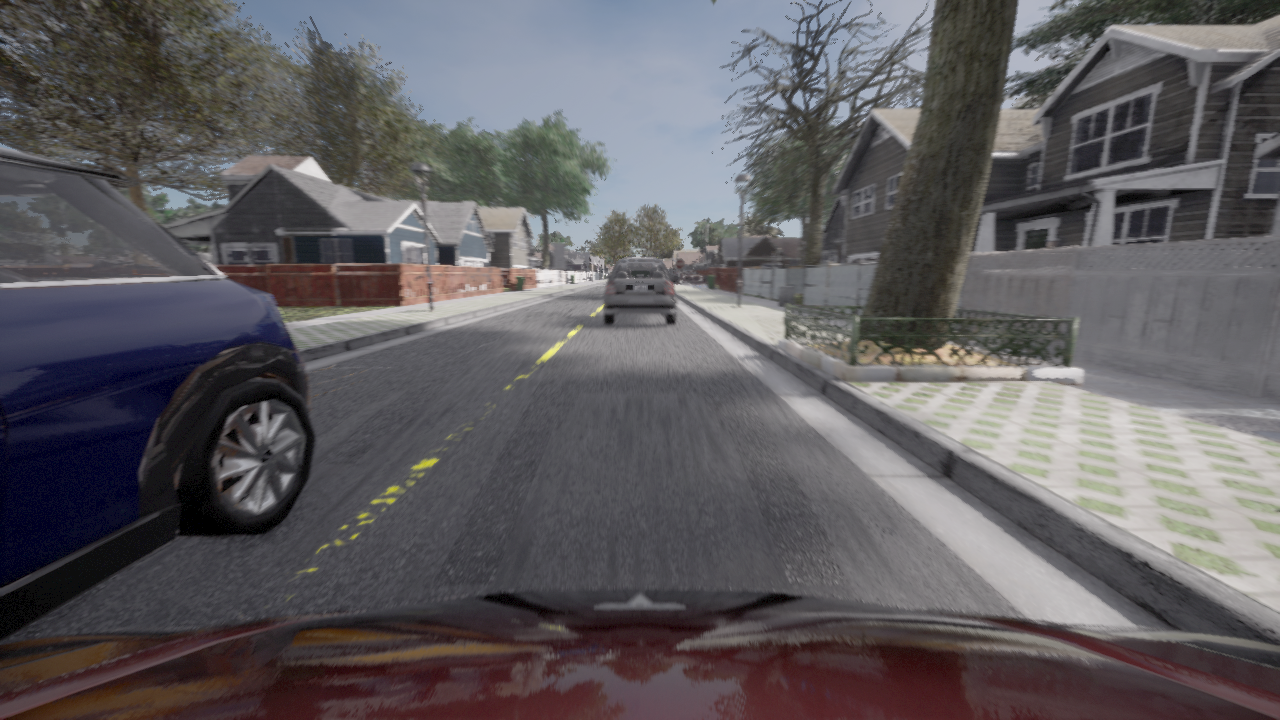cyclist: (0, 588, 1279, 719), (604, 259, 676, 324), (669, 269, 707, 283), (625, 257, 655, 258)
